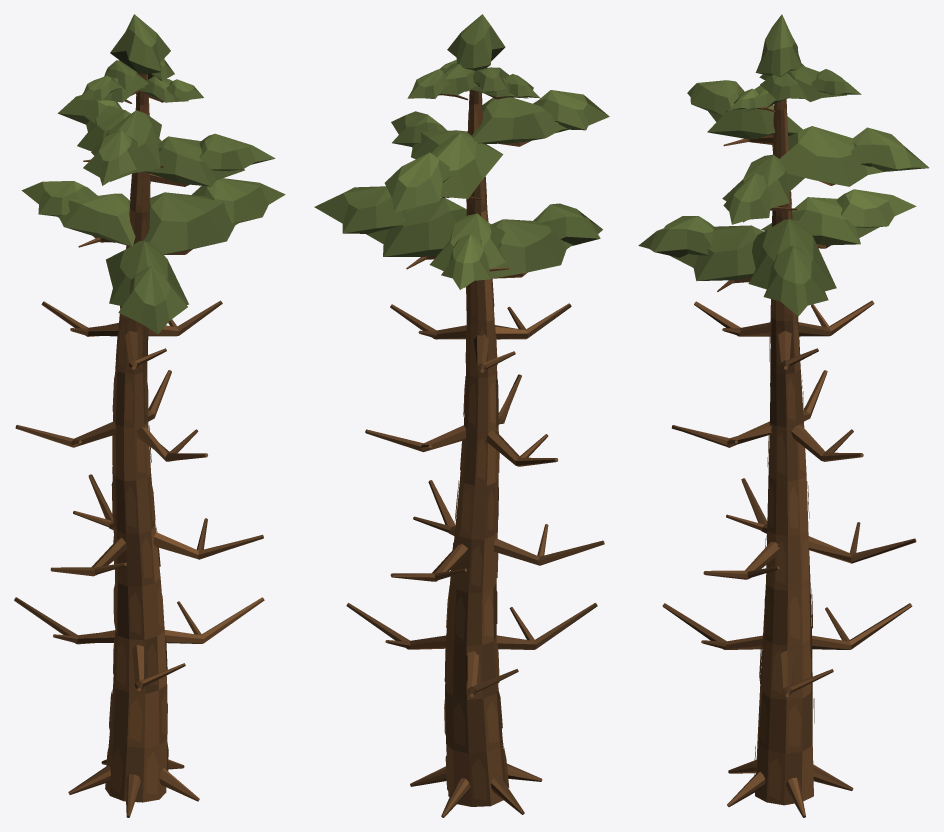
The model's file is pine-07.glb.
3 renders of one model, left to right at view 1: azimuth 30°, elevation 25°; view 2: azimuth 150°, elevation 25°; view 3: azimuth 270°, elevation 25°, orthographic.
Visible parts, largest first — view 1: pine-07; view 2: pine-07; view 3: pine-07.
Part boxes in pixels (x1,y1,x2,y2): pine-07: [14, 14, 285, 817]; pine-07: [314, 14, 609, 817]; pine-07: [638, 14, 929, 817].
Bounding box in the file's own units: 3.17 × 9 × 3.06.
